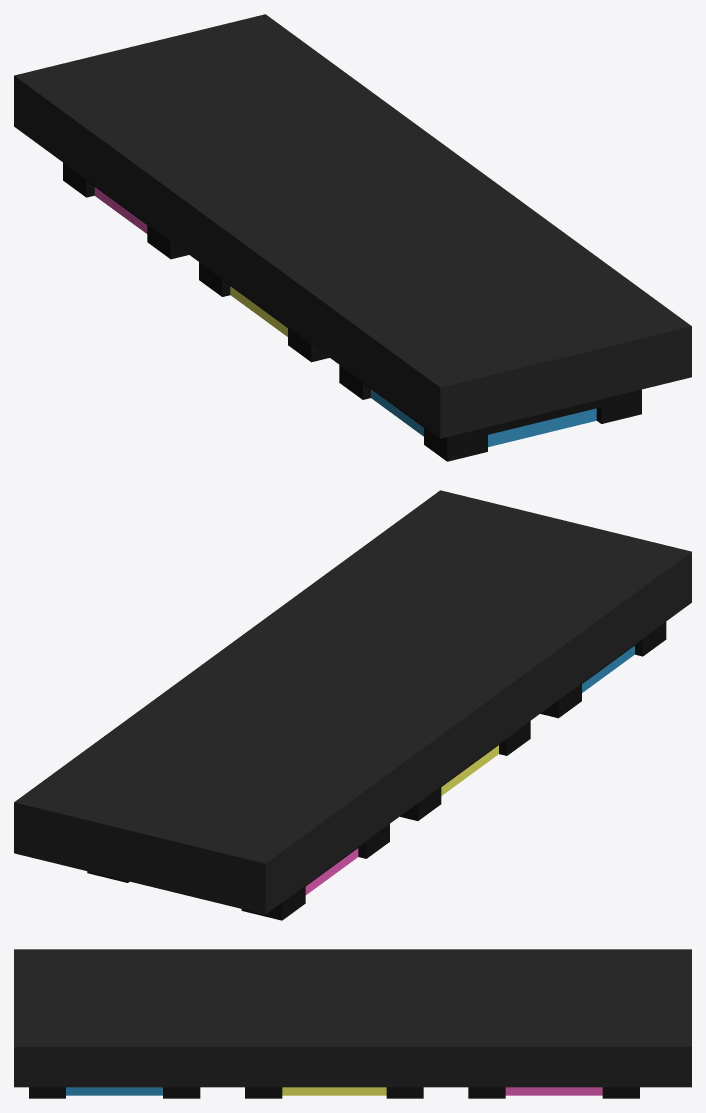
Rendered from cpu 쿨러.obj.
The picture shows the model from 3 angles, top to bottom: view 1: azimuth 30°, elevation 25°; view 2: azimuth 150°, elevation 25°; view 3: azimuth 270°, elevation 25°; orthographic projection. The views are drawn at different scales.
Size of the model in its own units: 3.1 by 1 by 9.1.
1 material, 1 textured.
